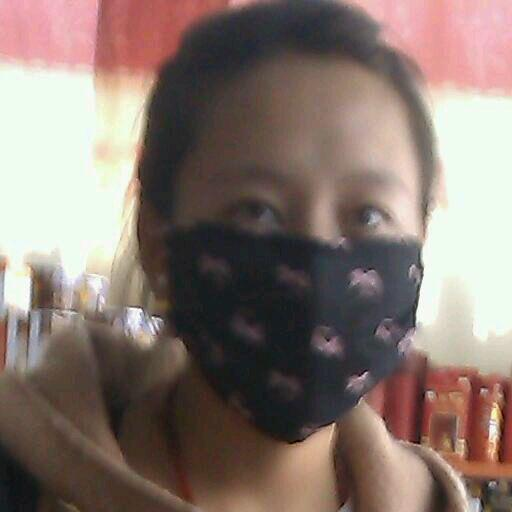OK: (163, 155, 428, 432)
